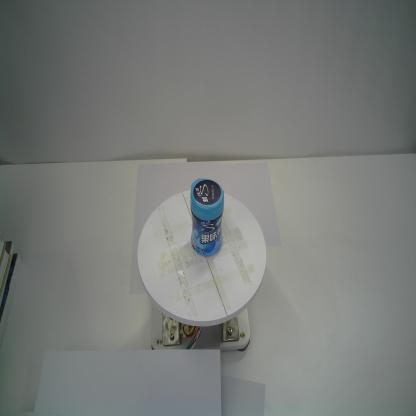Gum: (186, 178, 225, 257)
